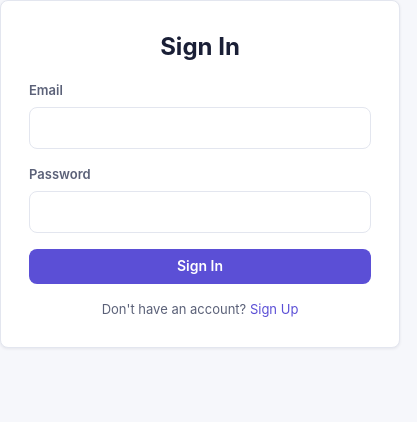
Test: AuthForm sign in › shows the server error when login fails
Type "user@example.com" into the field labelled "Email" at (200, 128), box [29, 106, 371, 149]
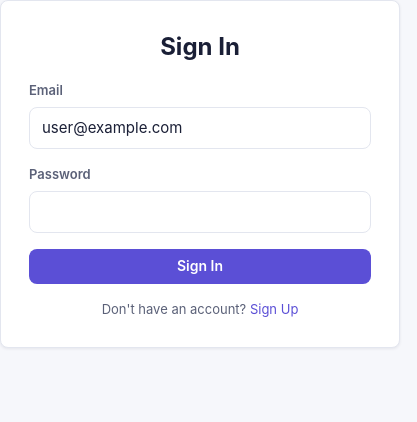
Type "abcdef1!" into the password field labelled "Password" at (200, 212), box [29, 190, 371, 233]
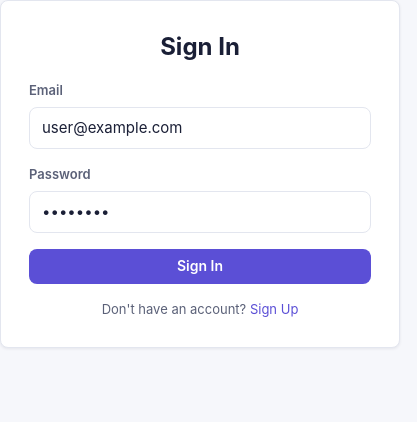
Click the button "Sign In" at (200, 266), box [29, 249, 371, 284]
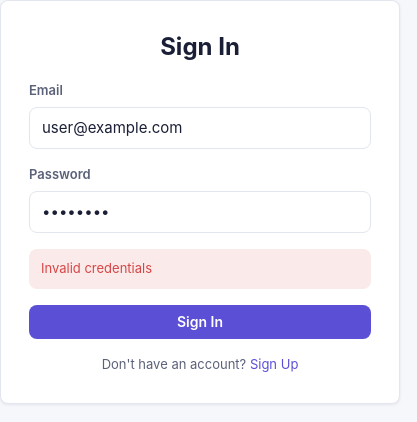
Check: the message reads "Invalid credentials", box [41, 260, 152, 276]
